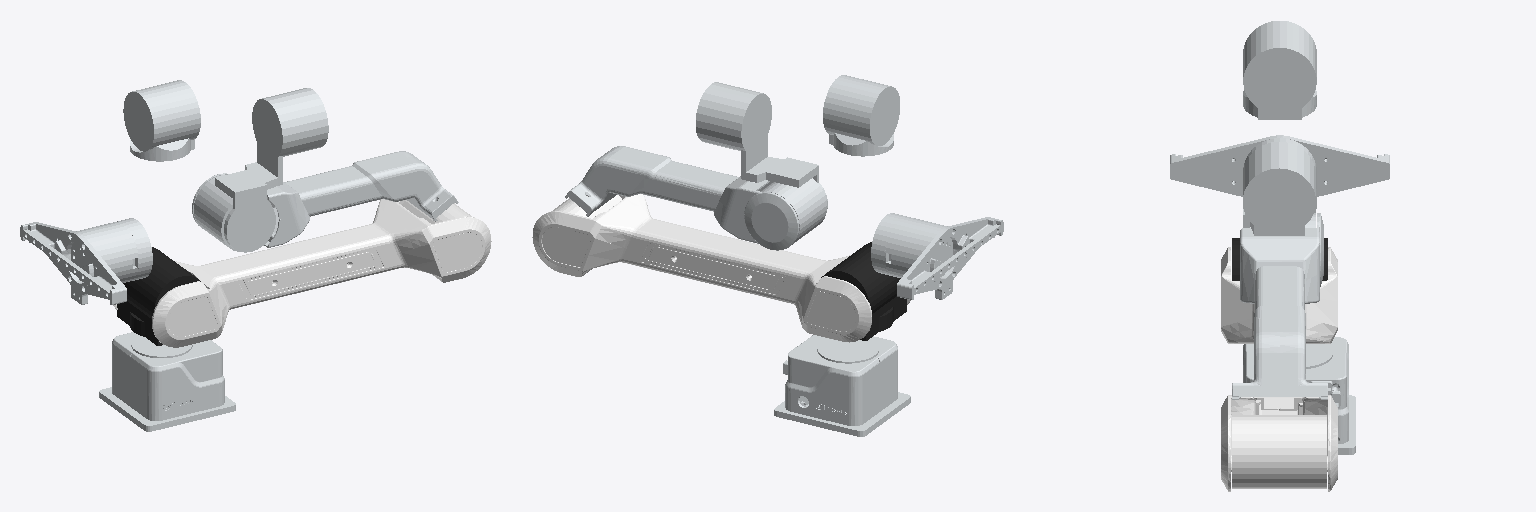
URDF robot description (DM13urdf):
<?xml version="1.0" encoding="utf-8"?>
<!-- This URDF was automatically created by SolidWorks to URDF Exporter! Originally created by [author] ([email redacted]) 
     Commit Version: 1.6.0-4-g7f85cfe  Build Version: 1.6.7995.38578
     For more information, please see http://wiki.ros.org/sw_urdf_exporter -->
<robot
  name="DM13urdf">
  <link
    name="base_link">
    <inertial>
      <origin
        xyz="-0.00315616821002854 -0.0126116894909405 0.00120511934338464"
        rpy="0 0 0" />
      <mass
        value="0.509543320656255" />
      <inertia
        ixx="0.000707304187237443"
        ixy="1.30513870445305E-07"
        ixz="1.42159746309957E-07"
        iyy="0.000364325874877072"
        iyz="-7.5777900669889E-09"
        izz="0.000994088190964314" />
    </inertial>
    <visual>
      <origin
        xyz="0 0 0"
        rpy="0 0 0" />
      <geometry>
        <mesh
          filename="package://DM13urdf/meshes/base_link.STL" />
      </geometry>
      <material
        name="">
        <color
          rgba="0.898039215686275 0.917647058823529 0.929411764705882 1" />
      </material>
    </visual>
    <collision>
      <origin
        xyz="0 0 0"
        rpy="0 0 0" />
      <geometry>
        <mesh
          filename="package://DM13urdf/meshes/base_link.STL" />
      </geometry>
    </collision>
  </link>
  <link
    name="1_Link">
    <inertial>
      <origin
        xyz="1.23405114324029E-05 -0.00428917013103167 0.0605476254012132"
        rpy="0 0 0" />
      <mass
        value="0.219539513602391" />
      <inertia
        ixx="9.28541806319406E-05"
        ixy="1.18792471975593E-11"
        ixz="9.69533581652565E-09"
        iyy="9.97550236059857E-05"
        iyz="3.90194973983134E-07"
        izz="9.46590737674372E-05" />
    </inertial>
    <visual>
      <origin
        xyz="0 0 0"
        rpy="0 0 0" />
      <geometry>
        <mesh
          filename="package://DM13urdf/meshes/1_Link.STL" />
      </geometry>
      <material
        name="">
        <color
          rgba="0.2 0.2 0.2 1" />
      </material>
    </visual>
    <collision>
      <origin
        xyz="0 0 0"
        rpy="0 0 0" />
      <geometry>
        <mesh
          filename="package://DM13urdf/meshes/1_Link.STL" />
      </geometry>
    </collision>
  </link>
  <joint
    name="1joint"
    type="revolute">
    <origin
      xyz="-0.0083638 -0.012614 0.02515"
      rpy="0 0 0" />
    <parent
      link="base_link" />
    <child
      link="1_Link" />
    <axis
      xyz="0 0 1" />
    <limit
      lower="-2.967"
      upper="2.967"
      effort="9"
      velocity="3" />
  </joint>
  <link
    name="2_Link">
    <inertial>
      <origin
        xyz="0.149265454785057 -8.19396080973117E-05 0.00077180382785739"
        rpy="0 0 0" />
      <mass
        value="0.443053528816151" />
      <inertia
        ixx="0.000106963186717597"
        ixy="-1.08866874058497E-05"
        ixz="-3.38505173322429E-08"
        iyy="0.00159752665783631"
        iyz="-7.10996589913717E-09"
        izz="0.00160636440631167" />
    </inertial>
    <visual>
      <origin
        xyz="0 0 0"
        rpy="0 0 0" />
      <geometry>
        <mesh
          filename="package://DM13urdf/meshes/2_Link.STL" />
      </geometry>
      <material
        name="">
        <color
          rgba="1 1 1 1" />
      </material>
    </visual>
    <collision>
      <origin
        xyz="0 0 0"
        rpy="0 0 0" />
      <geometry>
        <mesh
          filename="package://DM13urdf/meshes/2_Link.STL" />
      </geometry>
    </collision>
  </link>
  <joint
    name="2joint"
    type="revolute">
    <origin
      xyz="0 0 0.066099"
      rpy="1.5708 0 0" />
    <parent
      link="1_Link" />
    <child
      link="2_Link" />
    <axis
      xyz="0 0 1" />
    <limit
      lower="0"
      upper="3.14"
      effort="9"
      velocity="3" />
  </joint>
  <link
    name="3_Link">
    <inertial>
      <origin
        xyz="0.0343542764390053 0.0922345594895665 -0.00118307558463804"
        rpy="0 0 0" />
      <mass
        value="0.538961975283834" />
      <inertia
        ixx="0.000599951621976629"
        ixy="-5.68061831570934E-05"
        ixz="-2.09166924697164E-08"
        iyy="0.000232773226909755"
        iyz="1.24344585891258E-05"
        izz="0.000677799637668035" />
    </inertial>
    <visual>
      <origin
        xyz="0 0 0"
        rpy="0 0 0" />
      <geometry>
        <mesh
          filename="package://DM13urdf/meshes/3_Link.STL" />
      </geometry>
      <material
        name="">
        <color
          rgba="0.898039215686275 0.917647058823529 0.929411764705882 1" />
      </material>
    </visual>
    <collision>
      <origin
        xyz="0 0 0"
        rpy="0 0 0" />
      <geometry>
        <mesh
          filename="package://DM13urdf/meshes/3_Link.STL" />
      </geometry>
    </collision>
  </link>
  <joint
    name="3joint"
    type="revolute">
    <origin
      xyz="0.3 0 0"
      rpy="0 0 1.5708" />
    <parent
      link="2_Link" />
    <child
      link="3_Link" />
    <axis
      xyz="0 0 -1" />
    <limit
      lower="0"
      upper="3.14"
      effort="9"
      velocity="3" />
  </joint>
  <link
    name="4_Link">
    <inertial>
      <origin
        xyz="0.0399751611945109 0.0595067395209513 0.00427459978833224"
        rpy="0 0 0" />
      <mass
        value="0.209930469275193" />
      <inertia
        ixx="7.77290136088297E-05"
        ixy="4.99161244923018E-08"
        ixz="1.33875494107831E-06"
        iyy="6.63668590668454E-05"
        iyz="2.28078101356354E-08"
        izz="7.63825198092629E-05" />
    </inertial>
    <visual>
      <origin
        xyz="0 0 0"
        rpy="0 0 0" />
      <geometry>
        <mesh
          filename="package://DM13urdf/meshes/4_Link.STL" />
      </geometry>
      <material
        name="">
        <color
          rgba="0.898039215686275 0.917647058823529 0.929411764705882 1" />
      </material>
    </visual>
    <collision>
      <origin
        xyz="0 0 0"
        rpy="0 0 0" />
      <geometry>
        <mesh
          filename="package://DM13urdf/meshes/4_Link.STL" />
      </geometry>
    </collision>
  </link>
  <joint
    name="4joint"
    type="revolute">
    <origin
      xyz="0.057 0.22 0"
      rpy="0 0 0" />
    <parent
      link="3_Link" />
    <child
      link="4_Link" />
    <axis
      xyz="0 0 1" />
    <limit
      lower="-1.57"
      upper="1.57"
      effort="3"
      velocity="3" />
  </joint>
  <link
    name="5_Link">
    <inertial>
      <origin
        xyz="-0.00202900893934295 7.81689950761499E-06 -0.0521786606306489"
        rpy="0 0 0" />
      <mass
        value="0.179231232430523" />
      <inertia
        ixx="6.78621501414178E-05"
        ixy="1.09228077569469E-08"
        ixz="8.33943443253674E-08"
        iyy="5.69014377087721E-05"
        iyz="-5.87224804519854E-09"
        izz="6.44817460555691E-05" />
    </inertial>
    <visual>
      <origin
        xyz="0 0 0"
        rpy="0 0 0" />
      <geometry>
        <mesh
          filename="package://DM13urdf/meshes/5_Link.STL" />
      </geometry>
      <material
        name="">
        <color
          rgba="0.898039215686275 0.917647058823529 0.929411764705882 1" />
      </material>
    </visual>
    <collision>
      <origin
        xyz="0 0 0"
        rpy="0 0 0" />
      <geometry>
        <mesh
          filename="package://DM13urdf/meshes/5_Link.STL" />
      </geometry>
    </collision>
  </link>
  <joint
    name="5joint"
    type="revolute">
    <origin
      xyz="0.06076 0.08 0"
      rpy="-1.5708 0 -1.5708" />
    <parent
      link="4_Link" />
    <child
      link="5_Link" />
    <axis
      xyz="0 0 -1" />
    <limit
      lower="-1.57"
      upper="1.57"
      effort="3"
      velocity="3" />
  </joint>
  <link
    name="6_Link">
    <inertial>
      <origin
        xyz="-5.12935660638633E-07 0.000315932413881809 0.0584362637438338"
        rpy="0 0 0" />
      <mass
        value="0.240928180233382" />
      <inertia
        ixx="6.9012891461221E-05"
        ixy="1.87519921499042E-09"
        ixz="-8.64676128701294E-11"
        iyy="0.000150394404426466"
        iyz="8.3744238143819E-08"
        izz="0.000177816525457933" />
    </inertial>
    <visual>
      <origin
        xyz="0 0 0"
        rpy="0 0 0" />
      <geometry>
        <mesh
          filename="package://DM13urdf/meshes/6_Link.STL" />
      </geometry>
      <material
        name="">
        <color
          rgba="0.898039215686275 0.917647058823529 0.929411764705882 1" />
      </material>
    </visual>
    <collision>
      <origin
        xyz="0 0 0"
        rpy="0 0 0" />
      <geometry>
        <mesh
          filename="package://DM13urdf/meshes/6_Link.STL" />
      </geometry>
    </collision>
  </link>
  <joint
    name="6joint"
    type="revolute">
    <origin
      xyz="0.00025999 0 -0.06076"
      rpy="1.5708 0 -1.5708" />
    <parent
      link="5_Link" />
    <child
      link="6_Link" />
    <axis
      xyz="0 0 -1" />
    <limit
      lower="-1.57"
      upper="1.57"
      effort="3"
      velocity="3" />
  </joint>
</robot>

--- Facts derived from the render (not from the file) ---
3 views of the same robot in one strip: view 1: azimuth 30°, elevation 25°; view 2: azimuth 150°, elevation 25°; view 3: azimuth 270°, elevation 25° (orthographic).
Model DM13urdf with 7 links and 6 joints (6 revolute), rooted at base_link, posed every joint at zero.
Visible links, largest first — view 1: 2_Link, 3_Link, base_link, 4_Link, 6_Link, 5_Link, 1_Link; view 2: 2_Link, 3_Link, base_link, 6_Link, 4_Link, 5_Link, 1_Link; view 3: 2_Link, 3_Link, 5_Link, 6_Link, 4_Link, base_link.
Link boxes in pixels (x1,y1,x2,y2): 2_Link: (113,199,491,347); 3_Link: (192,151,458,251); base_link: (99,332,235,431); 4_Link: (215,88,328,252); 6_Link: (20,218,152,304); 5_Link: (123,80,200,161); 1_Link: (117,247,200,345); 2_Link: (532,194,910,342); 3_Link: (565,146,826,250); base_link: (774,335,910,436); 6_Link: (871,213,1003,299); 4_Link: (696,82,827,208); 5_Link: (823,75,899,156); 1_Link: (821,242,906,340); 2_Link: (1221,247,1337,491); 3_Link: (1232,213,1327,399); 5_Link: (1243,21,1316,119); 6_Link: (1170,135,1389,212); 4_Link: (1243,142,1315,235); base_link: (1243,337,1355,454).
Bounding box of the posed robot: 0.4312 × 0.17 × 0.3303 m (x, y, z).
Meshes: 7 distinct files referenced, 7 mesh visuals loaded (7 binary STL).